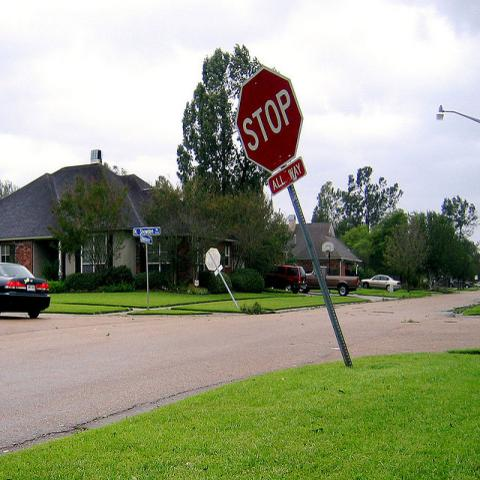car: (0, 262, 51, 319), (266, 266, 308, 293), (360, 274, 402, 292)
truck: (305, 266, 359, 297)
